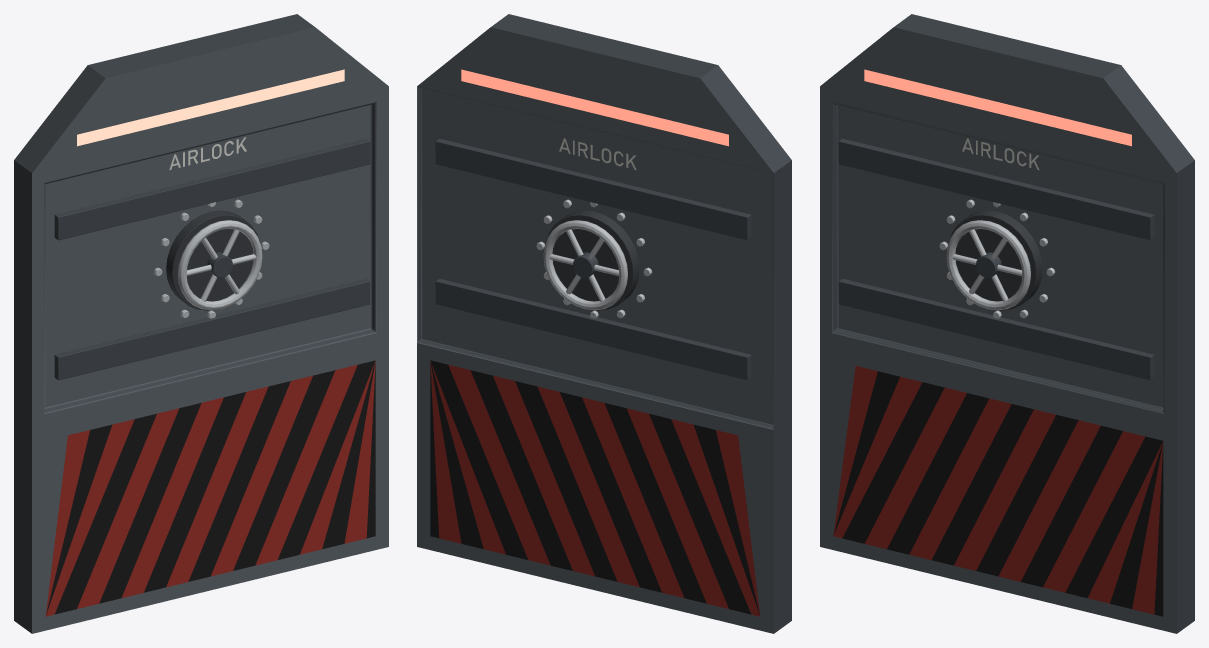
Rendered from door_airlock.glb.
The picture shows the model from 3 angles, left to right: view 1: azimuth 30°, elevation 25°; view 2: azimuth 150°, elevation 25°; view 3: azimuth 330°, elevation 25°; orthographic projection.
Visible parts, largest first — view 1: door_airlock_Leaf, door_airlock_Leaf_glass, door_airlock_Leaf_detail; view 2: door_airlock_Leaf, door_airlock_Leaf_glass, door_airlock_Leaf_detail; view 3: door_airlock_Leaf, door_airlock_Leaf_glass, door_airlock_Leaf_detail.
Part boxes in pixels (x1,y1,x2,y2): door_airlock_Leaf: [14, 14, 388, 633]; door_airlock_Leaf_glass: [45, 69, 375, 616]; door_airlock_Leaf_detail: [54, 138, 370, 380]; door_airlock_Leaf: [417, 14, 791, 633]; door_airlock_Leaf_glass: [430, 69, 760, 616]; door_airlock_Leaf_detail: [435, 138, 751, 380]; door_airlock_Leaf: [820, 14, 1194, 633]; door_airlock_Leaf_glass: [833, 69, 1163, 616]; door_airlock_Leaf_detail: [838, 138, 1154, 380].
Size of the model in its own units: 1.6 by 2.3 by 0.34.
